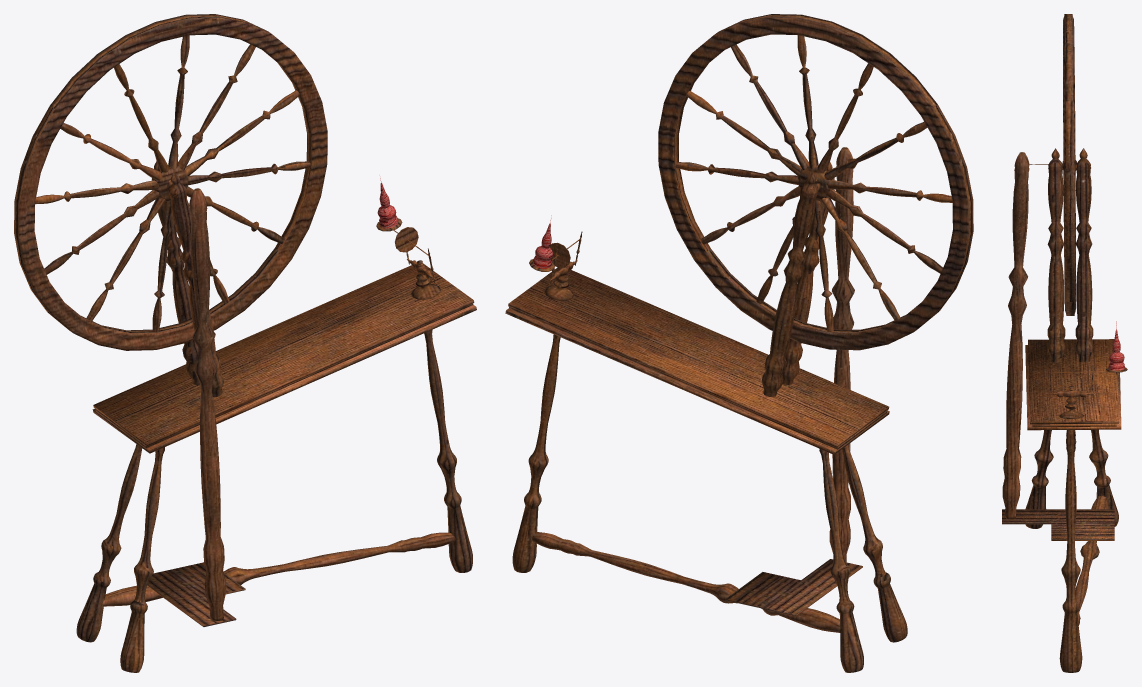
File: f_wrzeciono_3 1.fbx
The picture shows the model from 3 angles, left to right: view 1: azimuth 30°, elevation 25°; view 2: azimuth 150°, elevation 25°; view 3: azimuth 270°, elevation 25°; orthographic projection. The views are drawn at different scales.
Visible parts, largest first — view 1: Circle; view 2: Circle; view 3: Circle.
Part boxes in pixels (x1,y1,x2,y2): Circle: (14, 14, 476, 672); Circle: (505, 14, 973, 672); Circle: (1002, 14, 1127, 672).
Bounding box in the file's own units: 979 × 1274 × 278.
Materials: 2 (2 with a texture image).
